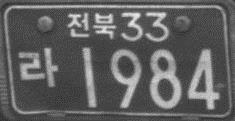1: (80, 45, 99, 109)
3: (145, 10, 169, 43), (120, 11, 142, 43)
4: (186, 47, 221, 110)
8: (149, 47, 183, 109)
9: (110, 48, 142, 109)
라: (17, 46, 58, 88)
전북_O: (66, 10, 116, 40)
